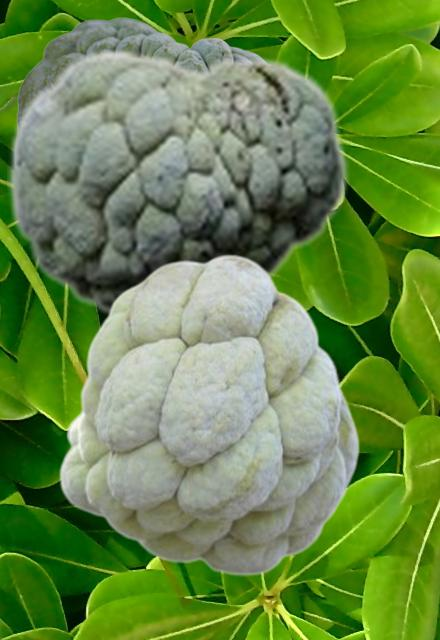atis: (58, 253, 359, 575), (7, 47, 348, 320), (15, 17, 261, 114)
